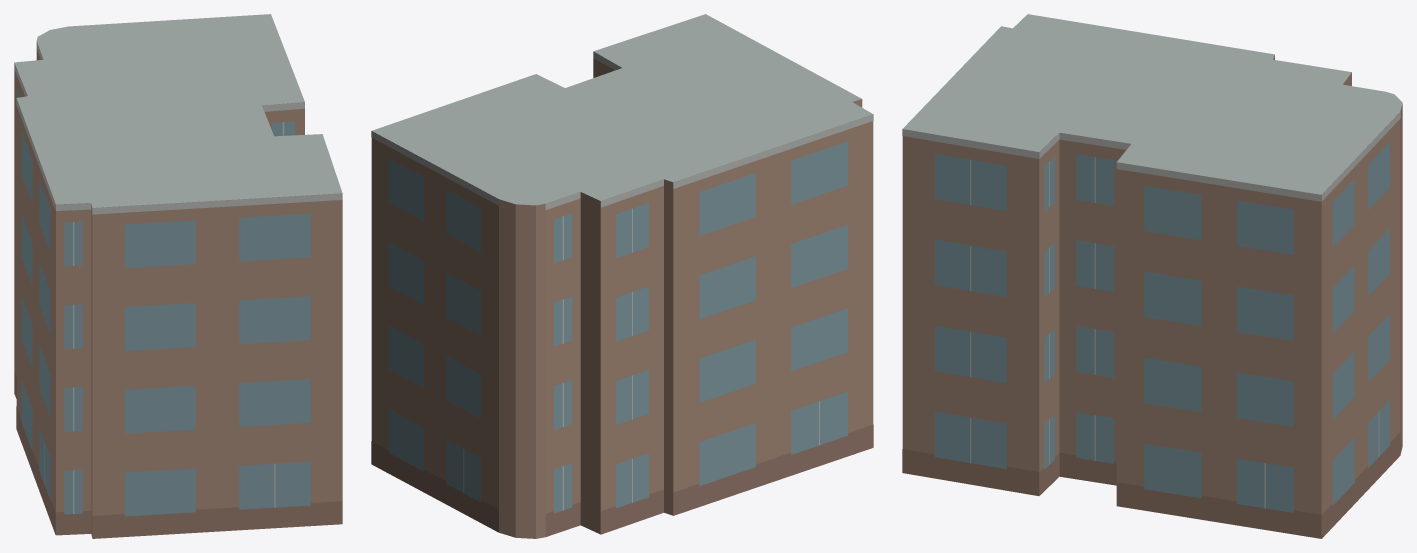
File: survey-upis-33012821.glb
3 views of the same model, side by side, from view 1: azimuth 30°, elevation 25°; view 2: azimuth 150°, elevation 25°; view 3: azimuth 270°, elevation 25° (orthographic). The views are drawn at different scales.
Visible parts, largest first — view 1: survey-upis-33012821.tmp; view 2: survey-upis-33012821.tmp; view 3: survey-upis-33012821.tmp.
Part boxes in pixels (x1,y1,x2,y2): survey-upis-33012821.tmp: (14, 14, 342, 538); survey-upis-33012821.tmp: (371, 14, 873, 538); survey-upis-33012821.tmp: (902, 14, 1402, 538).
Size of the model in its own units: 13.77 by 12.2 by 16.08.
